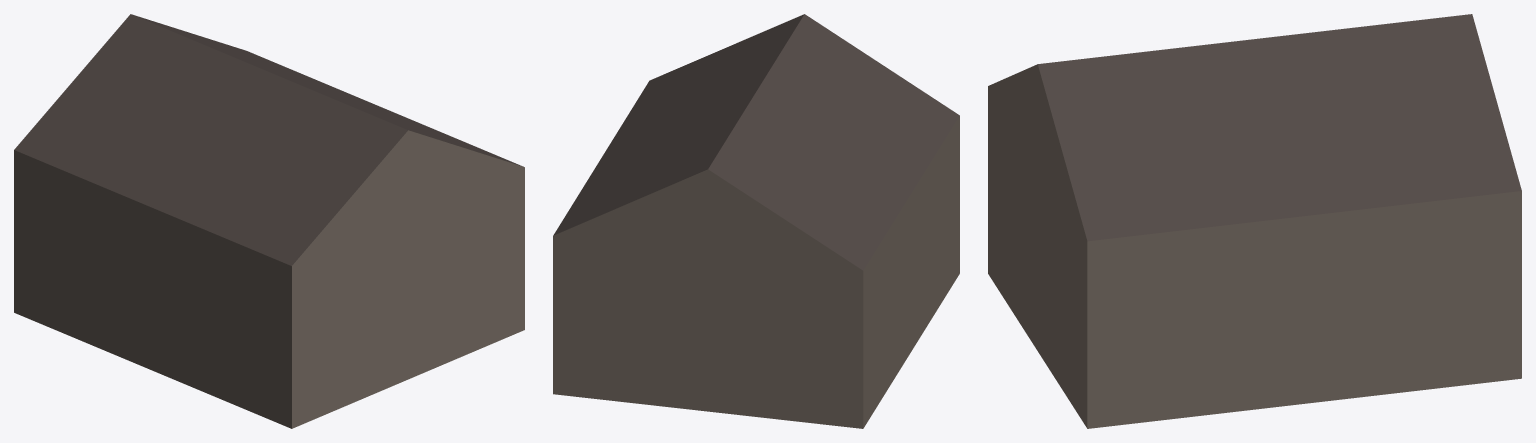
3 renders of one model, left to right at view 1: azimuth 30°, elevation 25°; view 2: azimuth 150°, elevation 25°; view 3: azimuth 270°, elevation 25°, orthographic. The views are drawn at different scales.
Visible parts, largest first — view 1: HP-w1376988850; view 2: HP-w1376988850; view 3: HP-w1376988850.
Boxes of the visible parts, x1,y1,x2,y2 form: HP-w1376988850: (14, 14, 524, 428); HP-w1376988850: (553, 14, 959, 428); HP-w1376988850: (988, 14, 1521, 428).
Size of the model in its own units: 14.09 by 9.19 by 15.48.
